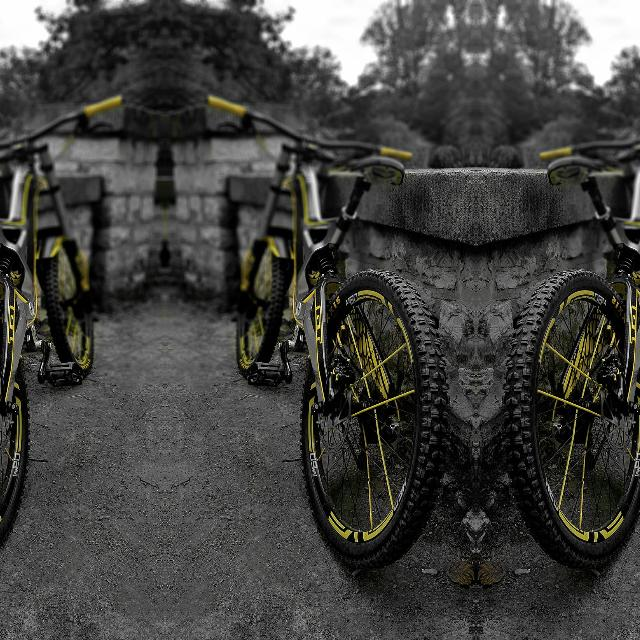obstacle: (197, 70, 461, 594), (489, 69, 640, 594), (0, 69, 131, 594)
